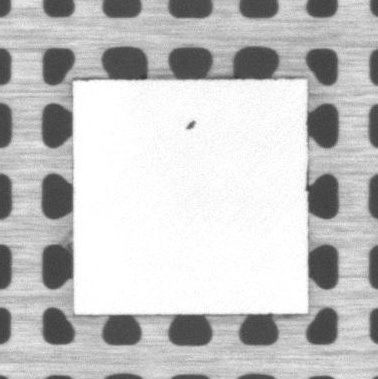DIE_INK: (185, 119, 198, 132)
